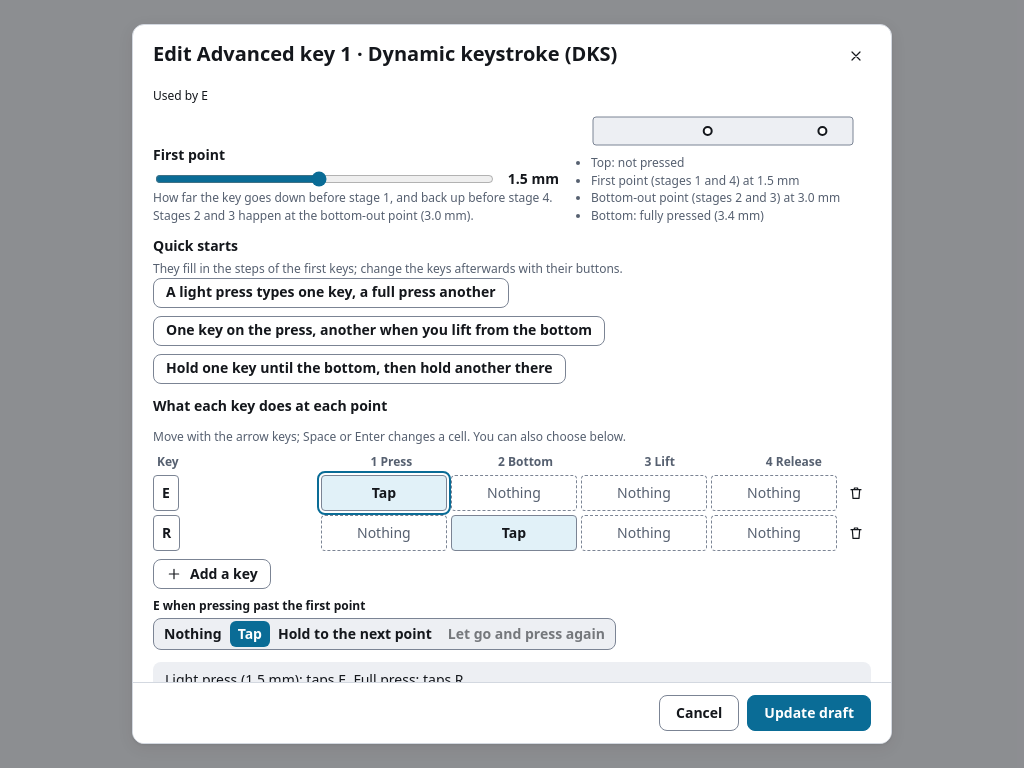
Scenario: the DKS grid: UI <-> intent for every grammar-valid row › is one Tab stop: the arrow keys, Home and End move the focus; a click changes a cell
This screenshot has width=1024, height=768.
Press ArrowRight in the 1st button "Tap", box [321,475,447,511]
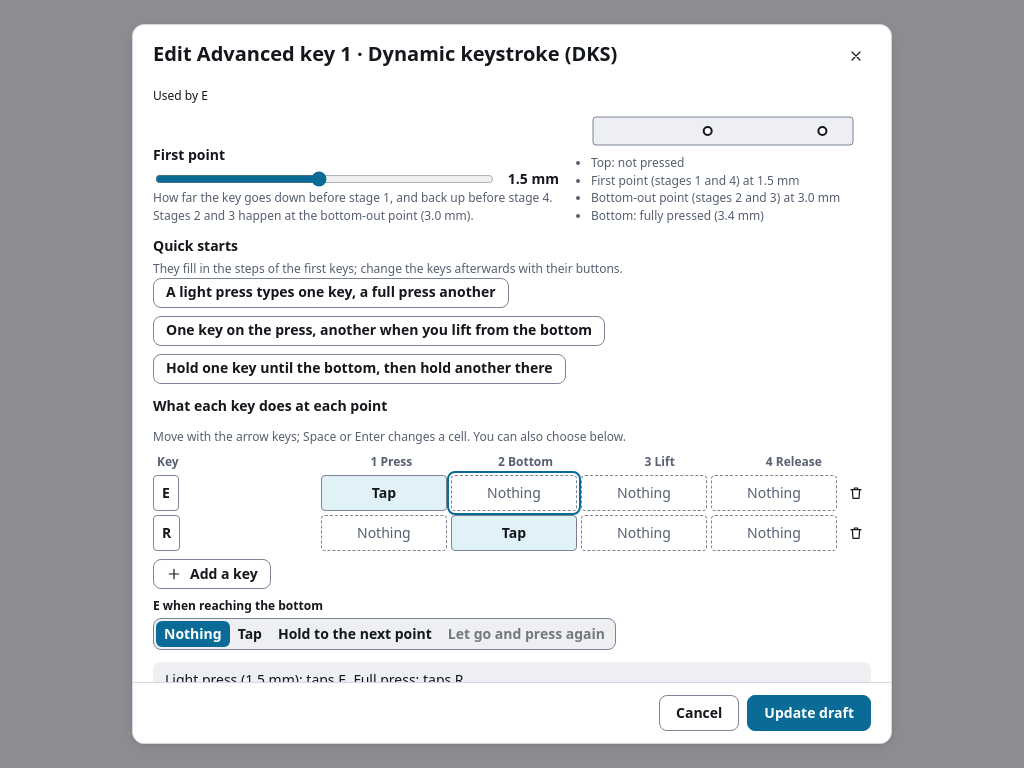
Press ArrowDown in the 1st button "Nothing", box [451,475,577,511]
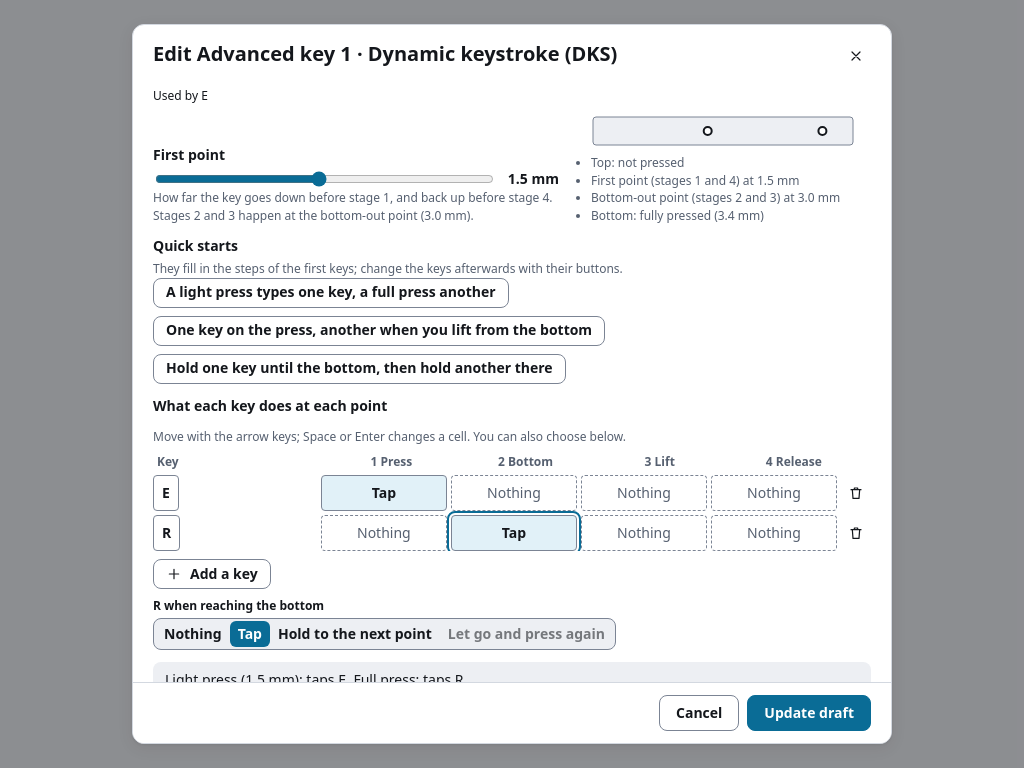
Press Home in the 2nd button "Tap", box [451,515,577,551]
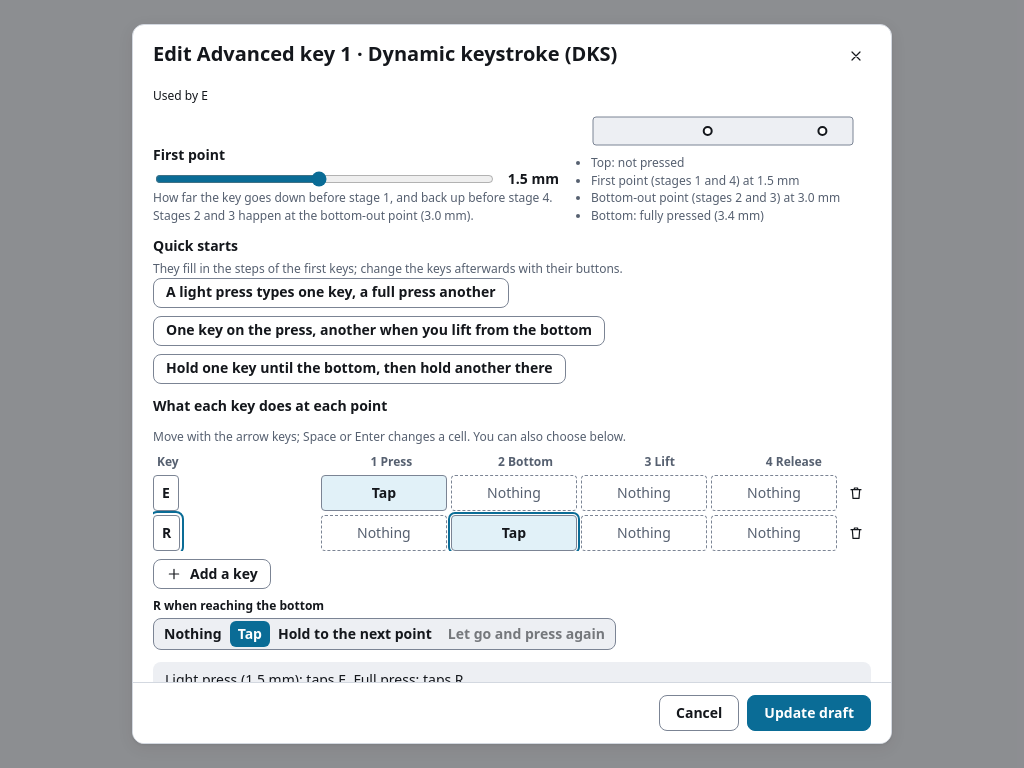
Press End in the button "R", box [153,515,180,551]
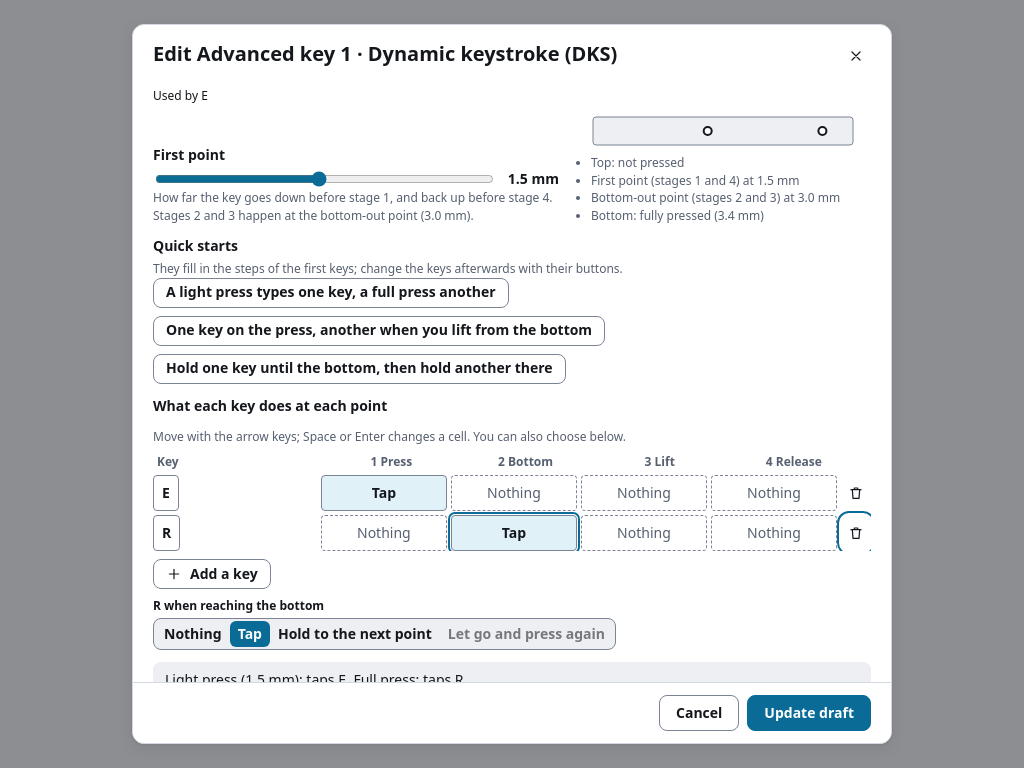
Click the 2nd button "Tap". click: (514, 533)
box: [451,515,577,551]
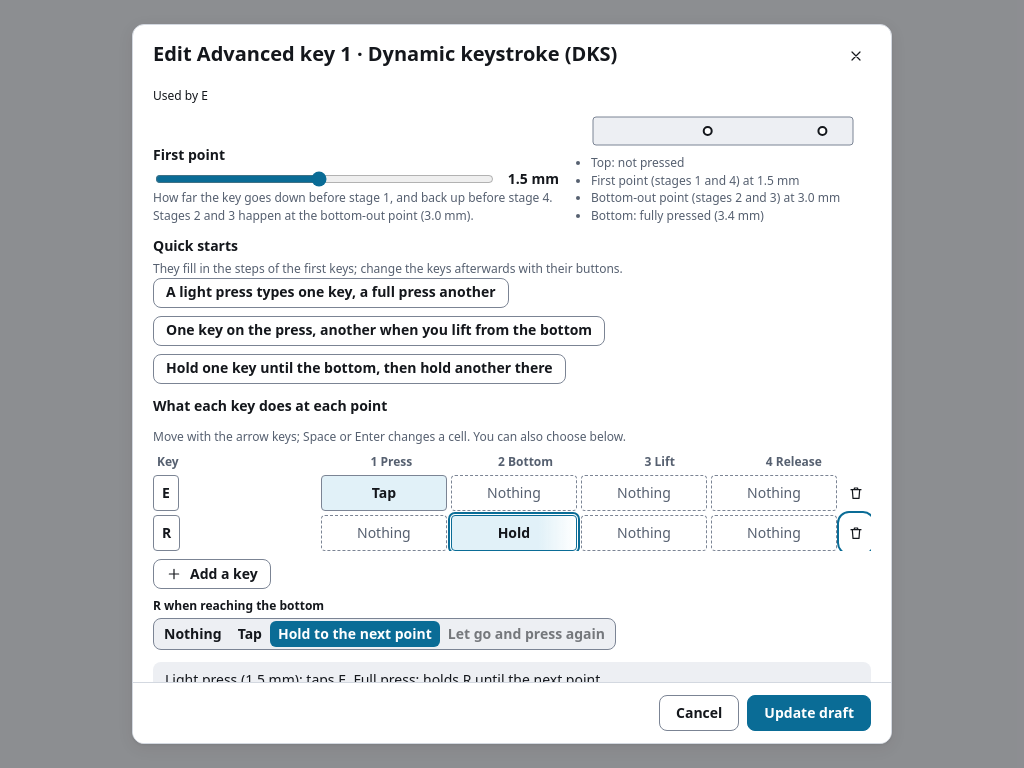
Now the text "Full press: holds R until the next point." is shown, box [165,670,604,682]
